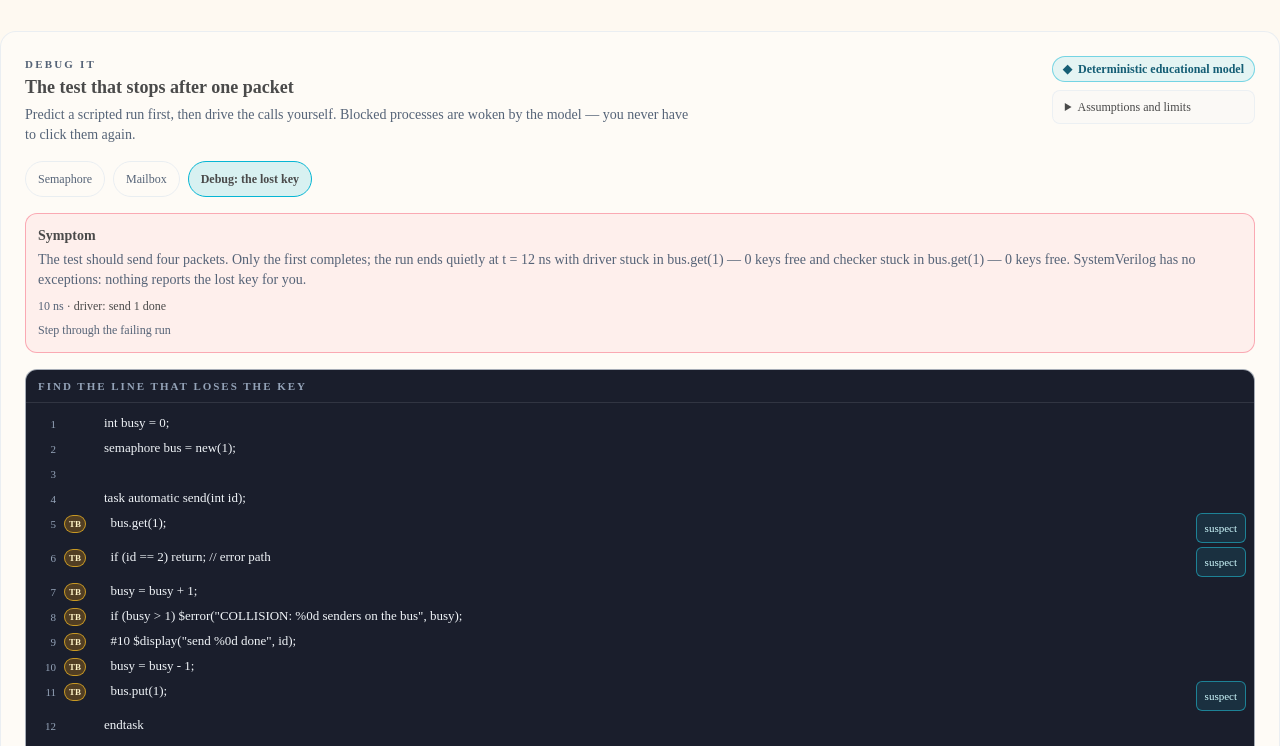
Scenario: MailboxSemaphoreGame › debug: the early return leaks the key; only returning it on every path passes all checks
Expected: the text "driver stuck in bus.get(1)" is shown, x1=583 y1=252 x2=1066 y2=266
Click the button with aria-label "Suspect line: bus.get(1);". click: (1221, 528)
box: x1=1196 y1=513 x2=1246 y2=543
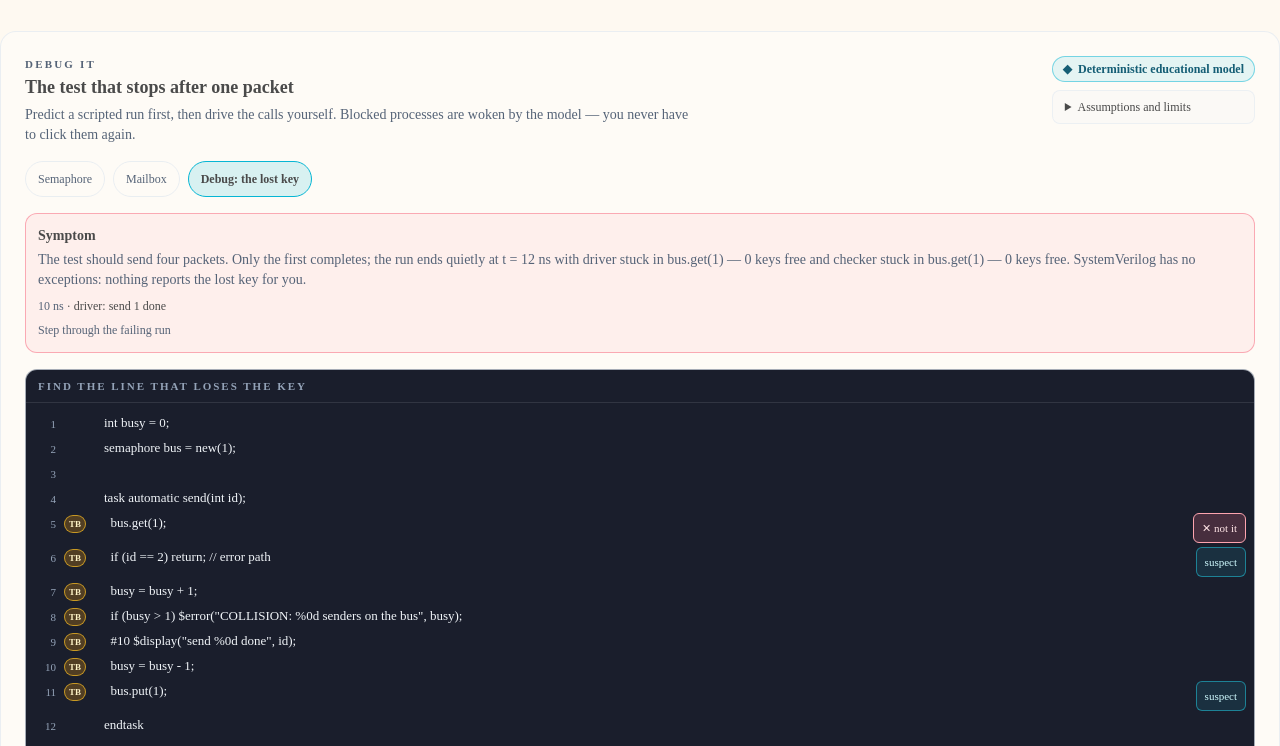
Click the button with aria-label "Suspect line: if (id == 2) return;". click: (1221, 562)
box: x1=1196 y1=547 x2=1246 y2=577
(page scrolled)
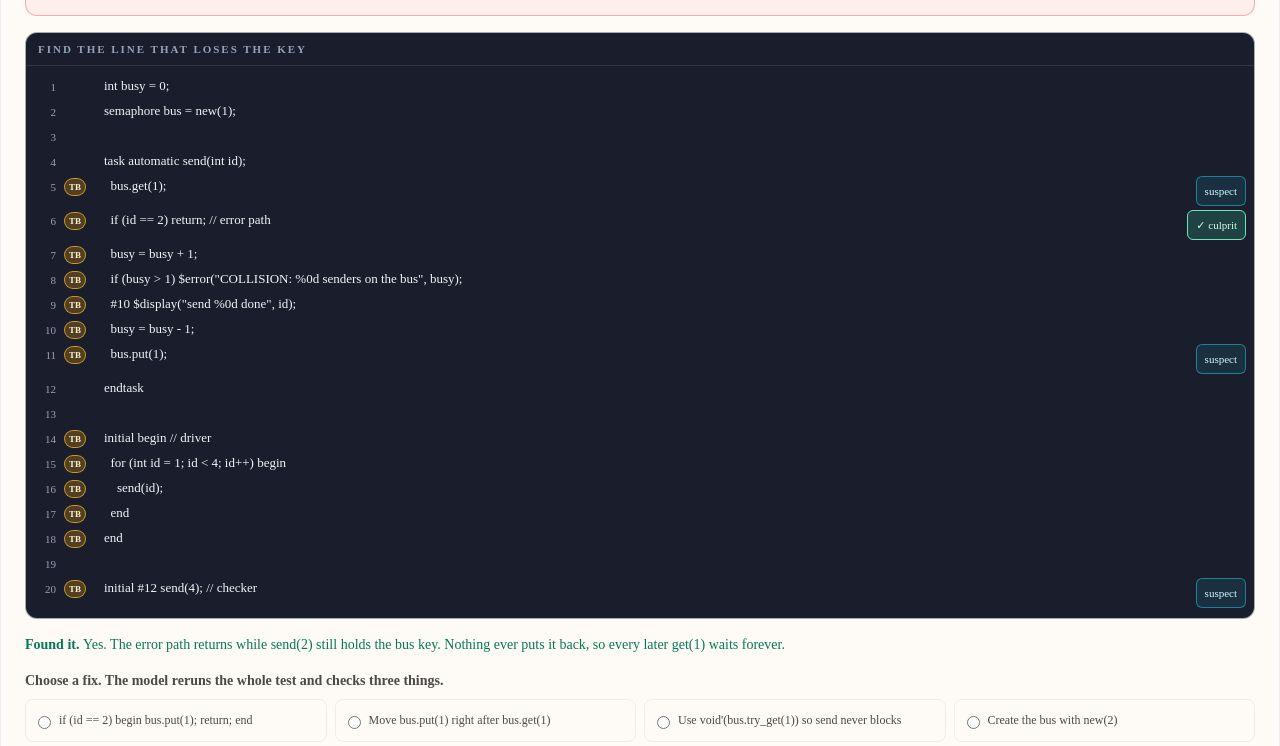
Expected: the text "Found it." is shown, x1=25 y1=637 x2=83 y2=652
Click the radio button labelled "Move bus.put(1) right after bus.get(1)". click: (354, 722)
box: x1=348 y1=716 x2=360 y2=729
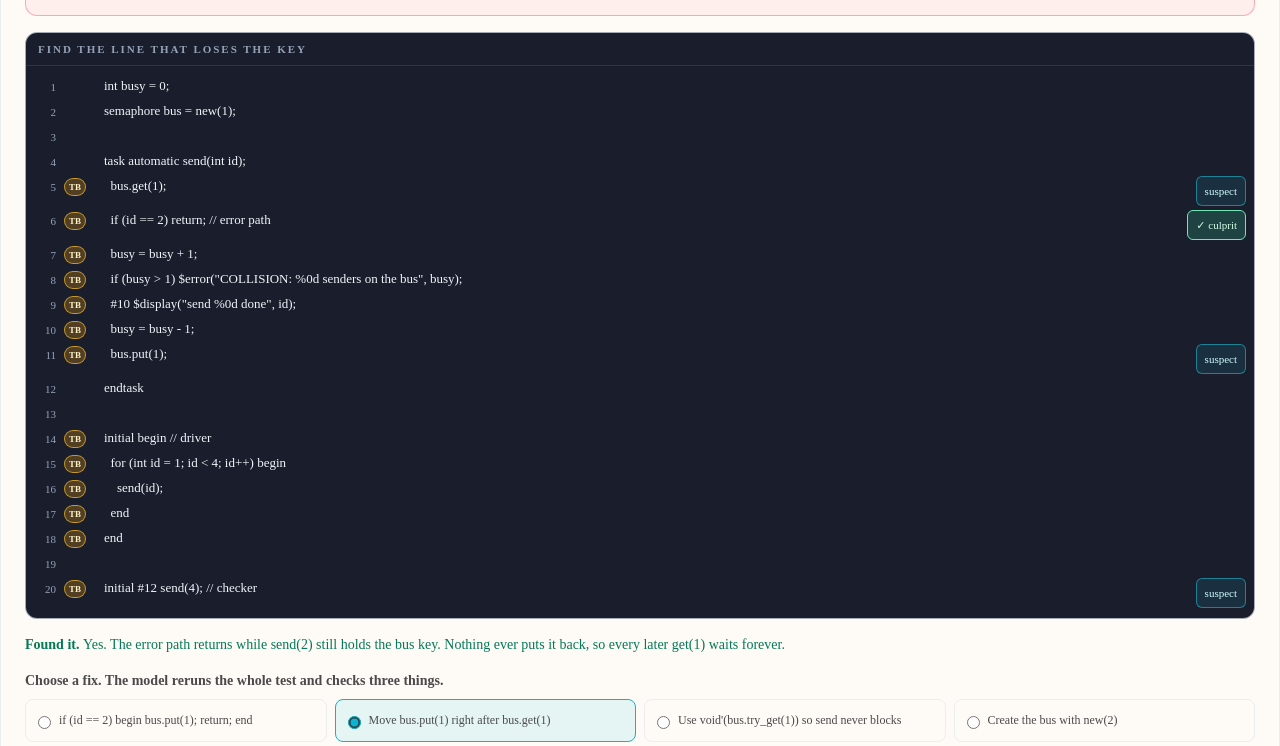
Click the radio button labelled "if (id == 2) begin bus.put(1); return; end". click: (44, 722)
box: x1=38 y1=716 x2=51 y2=729
(page scrolled)
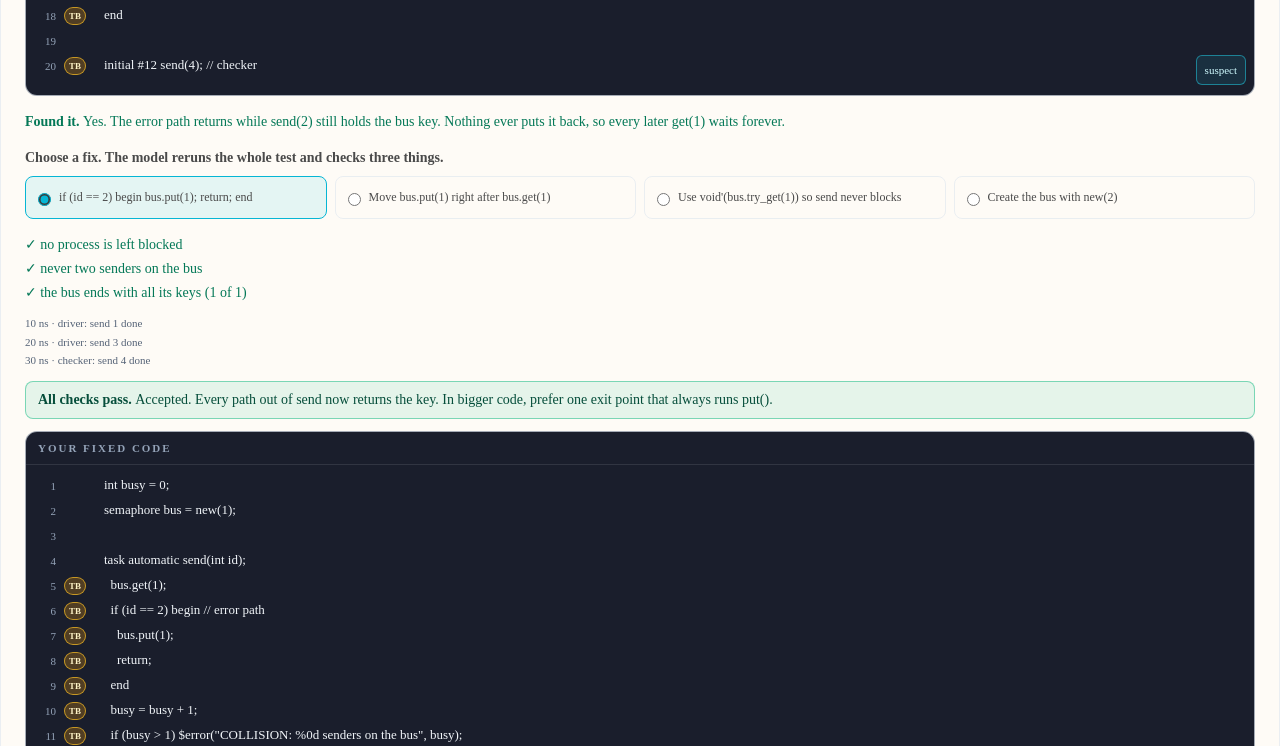
Expected: the text "All checks pass." is shown, x1=38 y1=392 x2=135 y2=406
